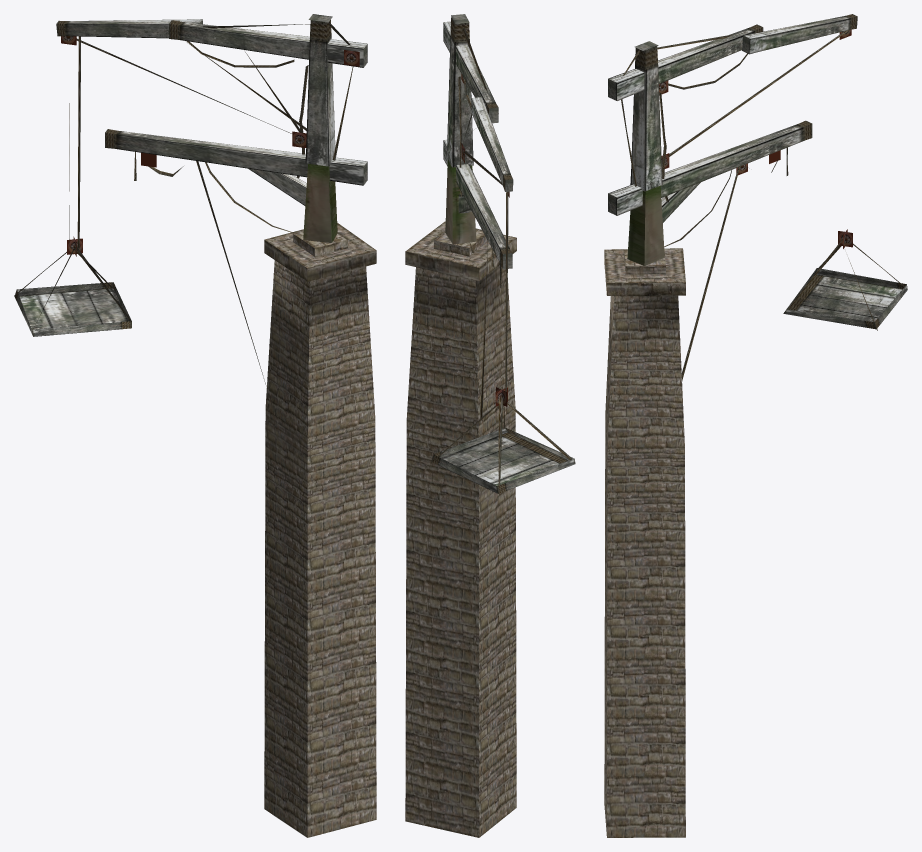
Rendered from Crane_B.fbx.
3 renders of one model, left to right at view 1: azimuth 30°, elevation 25°; view 2: azimuth 150°, elevation 25°; view 3: azimuth 270°, elevation 25°, orthographic. The views are drawn at different scales.
Parts seen in each view (by area): view 1: craneB_pillar, craneB_arm_03, craneB_platform, craneB_arm_01, craneB_post_02, craneB_post_01, craneB_arm_02, craneB_arm_support, craneB_rope_01; view 2: craneB_pillar, craneB_platform, craneB_post_02, craneB_arm_03, craneB_post_01, craneB_arm_01, craneB_arm_02, craneB_rope_02, craneB_rope_01, craneB_rope_04; view 3: craneB_pillar, craneB_platform, craneB_arm_03, craneB_post_02, craneB_arm_01, craneB_post_01, craneB_arm_02, craneB_rope_04, craneB_rope_06.
Part boxes in pixels (x1,y1,x2,y2): craneB_pillar: (264,223,376,837); craneB_arm_03: (105,129,367,185); craneB_platform: (14,282,131,336); craneB_arm_01: (169,20,367,67); craneB_post_02: (305,20,335,166); craneB_post_01: (303,164,337,242); craneB_arm_02: (56,19,202,38); craneB_arm_support: (248,168,306,205); craneB_rope_01: (69,36,80,248); craneB_pillar: (405,221,516,837); craneB_platform: (431,427,575,493); craneB_post_02: (446,17,473,167); craneB_arm_03: (443,139,512,269); craneB_post_01: (445,160,476,244); craneB_arm_01: (443,21,498,123); craneB_arm_02: (471,97,513,191); craneB_rope_02: (430,396,572,492); craneB_rope_01: (505,192,508,398); craneB_rope_04: (480,241,487,420); craneB_pillar: (604,248,685,837); craneB_platform: (783,268,907,329); craneB_arm_03: (608,120,812,215); craneB_post_02: (630,46,662,191); craneB_arm_01: (608,24,763,100); craneB_post_01: (627,185,664,265); craneB_arm_02: (742,14,857,54); craneB_rope_04: (681,166,739,381); craneB_rope_06: (668,30,848,156).
Bounding box in the file's own units: 2830 × 9062 × 3216.
Materials: 2 (2 with a texture image).
